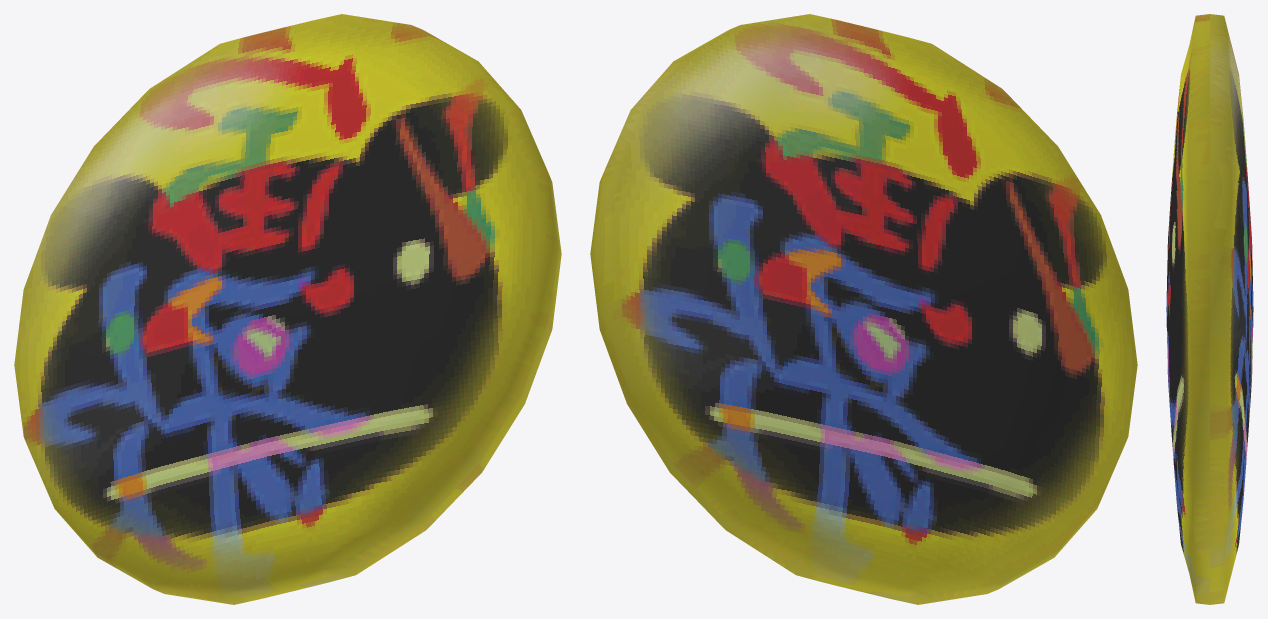
The model's file is ps2_save-icons_kumauta.glb.
3 renders of one model, left to right at view 1: azimuth 30°, elevation 25°; view 2: azimuth 150°, elevation 25°; view 3: azimuth 270°, elevation 25°, orthographic. The views are drawn at different scales.
Parts seen in each view (by area): view 1: enka.ico; view 2: enka.ico; view 3: enka.ico.
Boxes of the visible parts, left/top/right/bottom form: enka.ico: left=14, top=14, right=561, bottom=604; enka.ico: left=590, top=14, right=1137, bottom=604; enka.ico: left=1166, top=14, right=1253, bottom=604.
Bounding box in the file's own units: 3.95 × 3.92 × 0.5859.
Materials: 1 (1 with a texture image).
